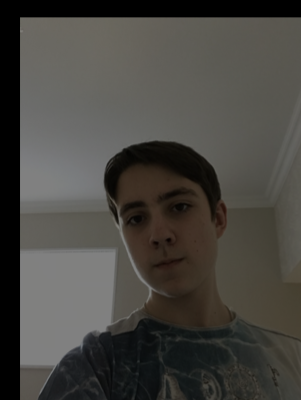without_mask: (116, 188, 217, 299)
